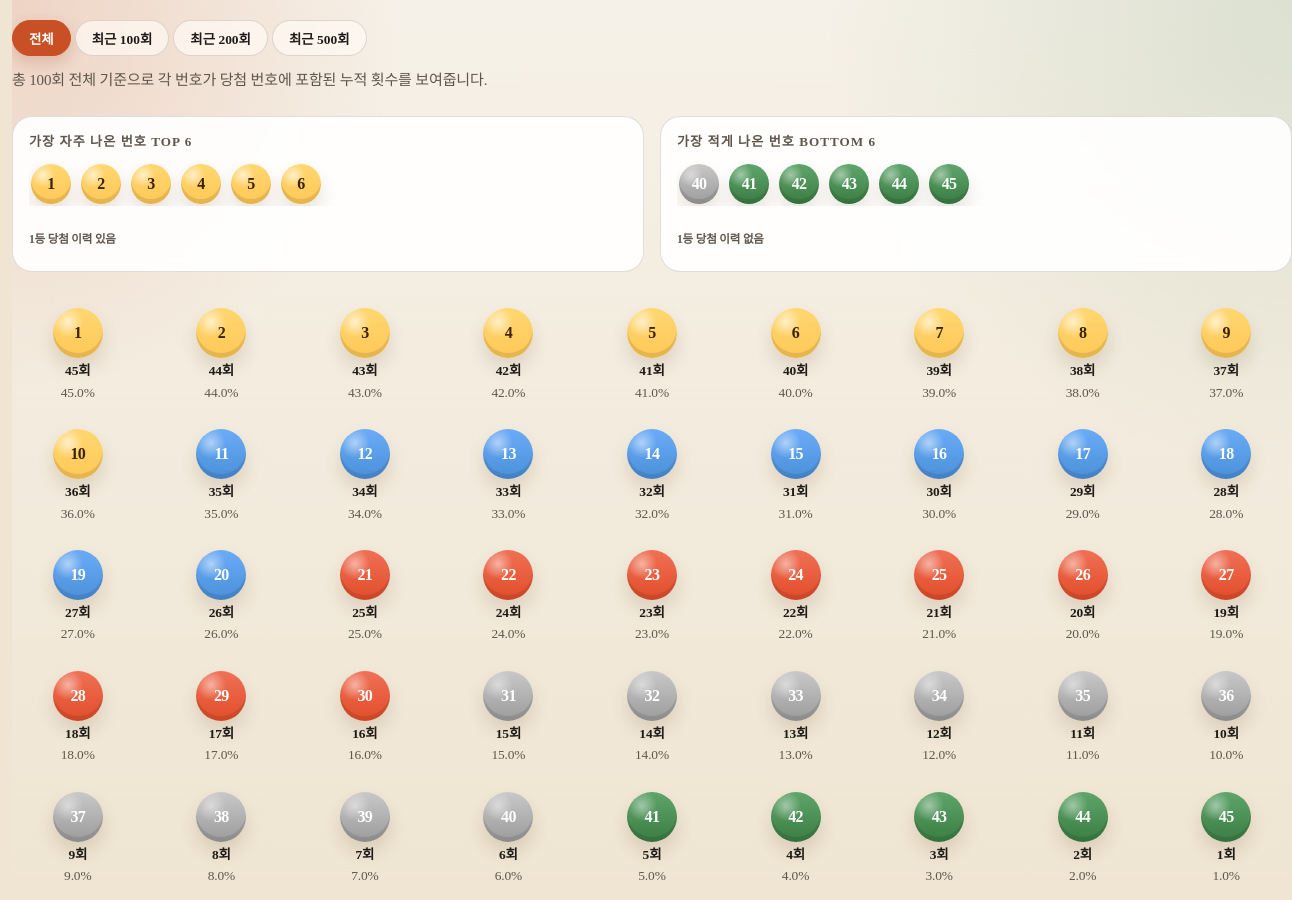
Test: frequency 필터 › 전체 필터로 되돌리면 초기 값을 다시 표시한다
The image size is (1292, 900).
Click the button "최근 100회" at [122, 38], box [75,20,169,56]
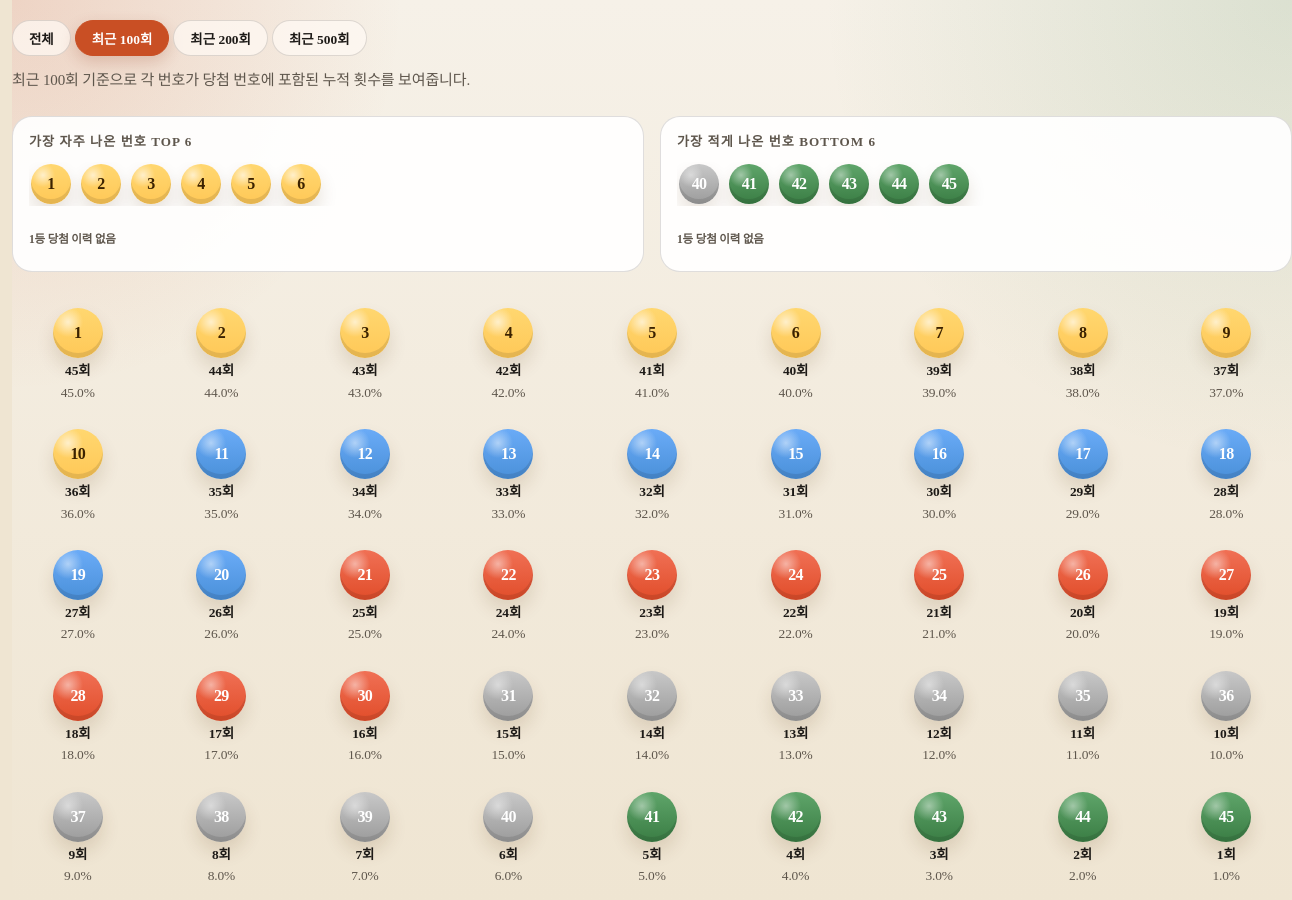
Expected: the text "1등 당첨 이력 없음" is shown 2 times, [29,233,116,245]; [677,233,764,245]
Click the button "전체" at [41, 38], box [12,20,71,56]
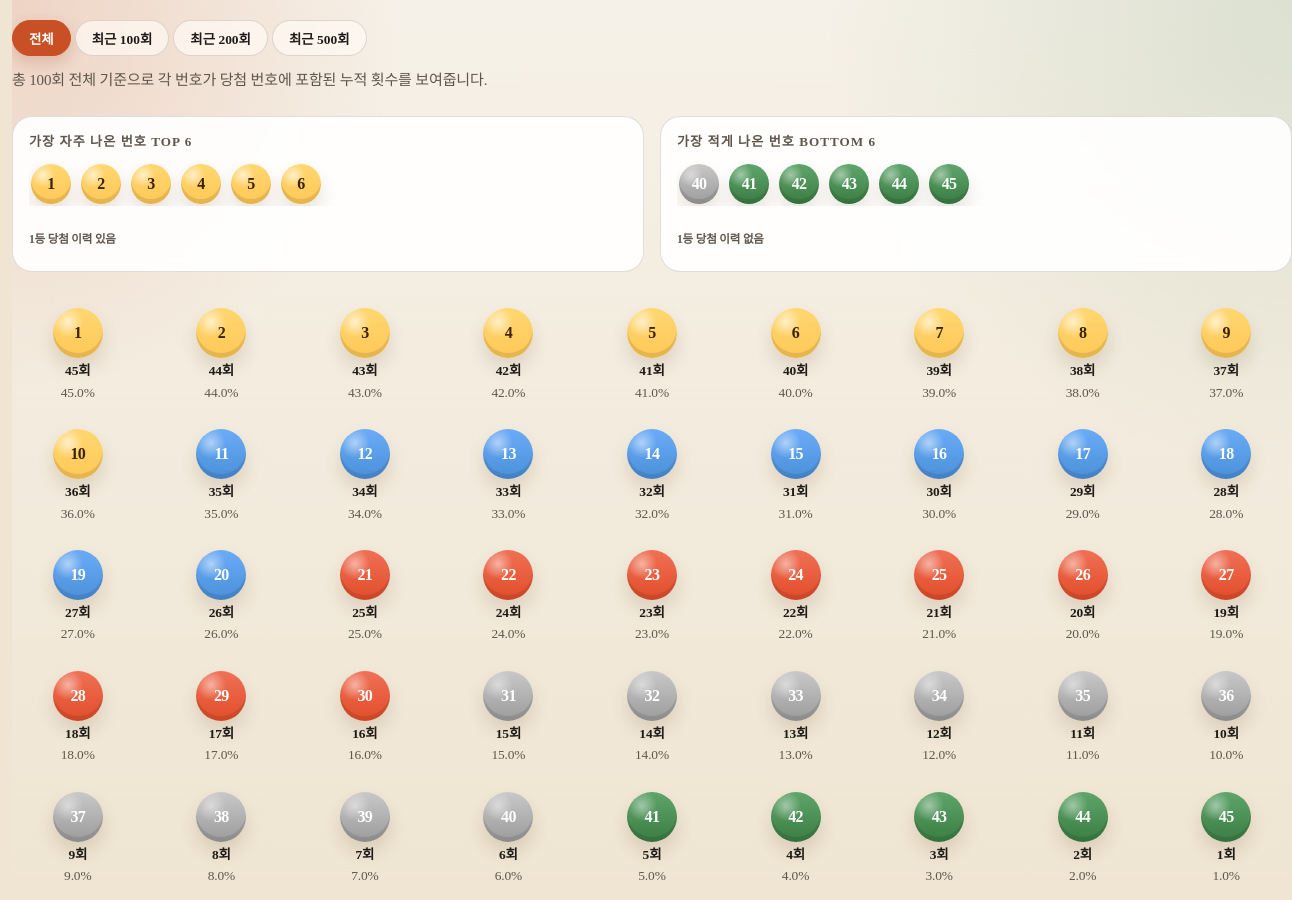
Expected: the text "1등 당첨 이력 없음" is shown once, [677,233,764,245]
Now the text "1등 당첨 이력 있음" is shown, box [29,233,116,245]
